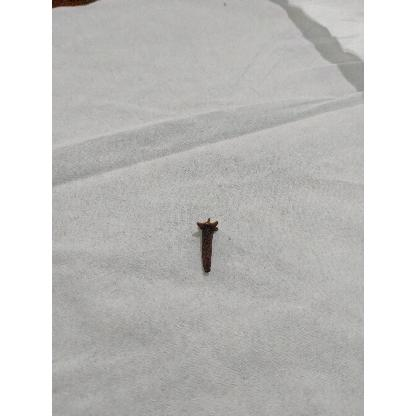buruk: (196, 219, 219, 276)
